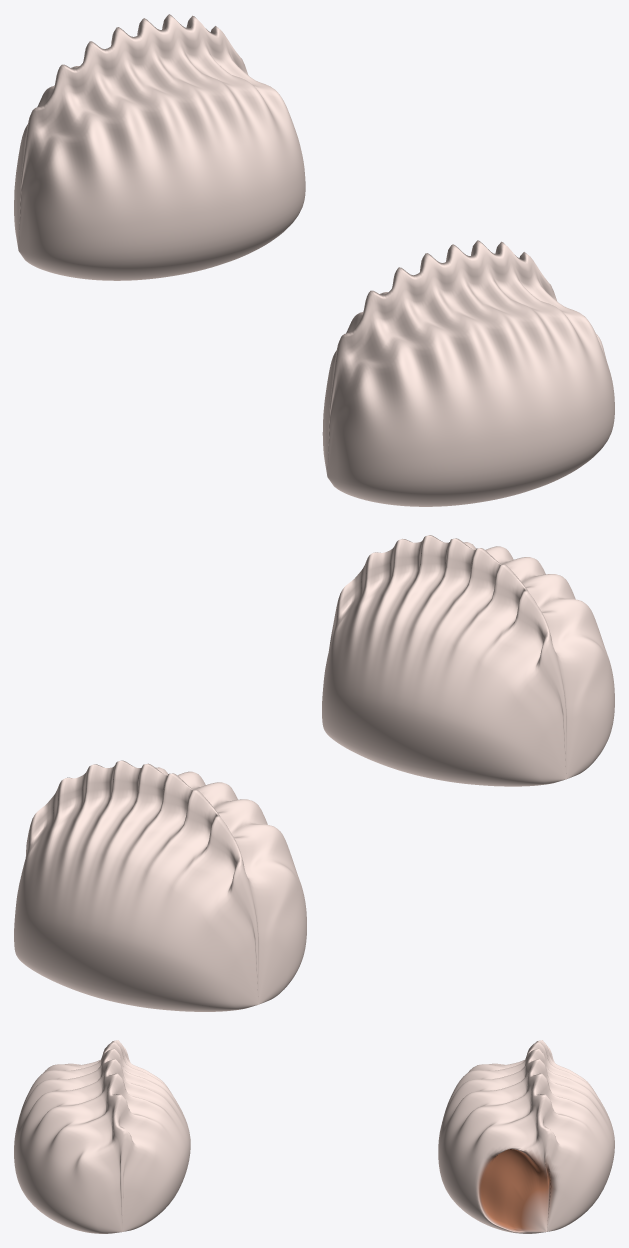
The model's file is hargow.glb.
3 views of the same model, one above another, from view 1: azimuth 30°, elevation 25°; view 2: azimuth 150°, elevation 25°; view 3: azimuth 270°, elevation 25° (orthographic). The views are drawn at different scales.
Parts seen in each view (by area): view 1: HargowBody, HargowBitten; view 2: HargowBody, HargowBitten; view 3: HargowBody, HargowBitten.
Boxes of the visible parts, bbox=[...] form: HargowBody: bbox=[322, 240, 614, 506]; HargowBitten: bbox=[14, 14, 305, 280]; HargowBody: bbox=[322, 535, 614, 786]; HargowBitten: bbox=[14, 760, 306, 1011]; HargowBody: bbox=[14, 1040, 190, 1233]; HargowBitten: bbox=[438, 1040, 614, 1233].
Bounding box in the file's own units: 0.4892 × 0.3999 × 1.42.
